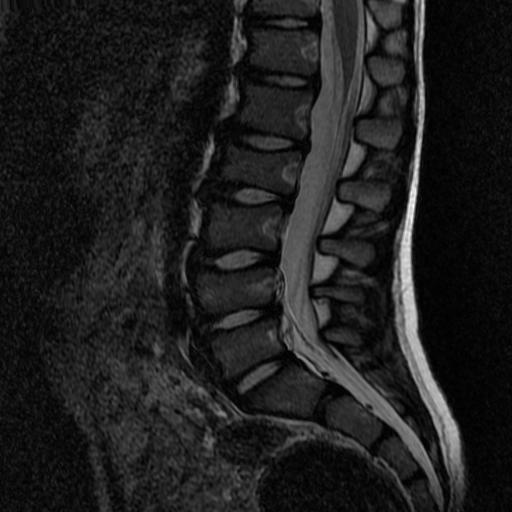D1: (218, 117, 311, 156)
